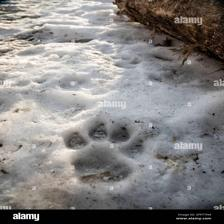wolf: (59, 120, 155, 190)
